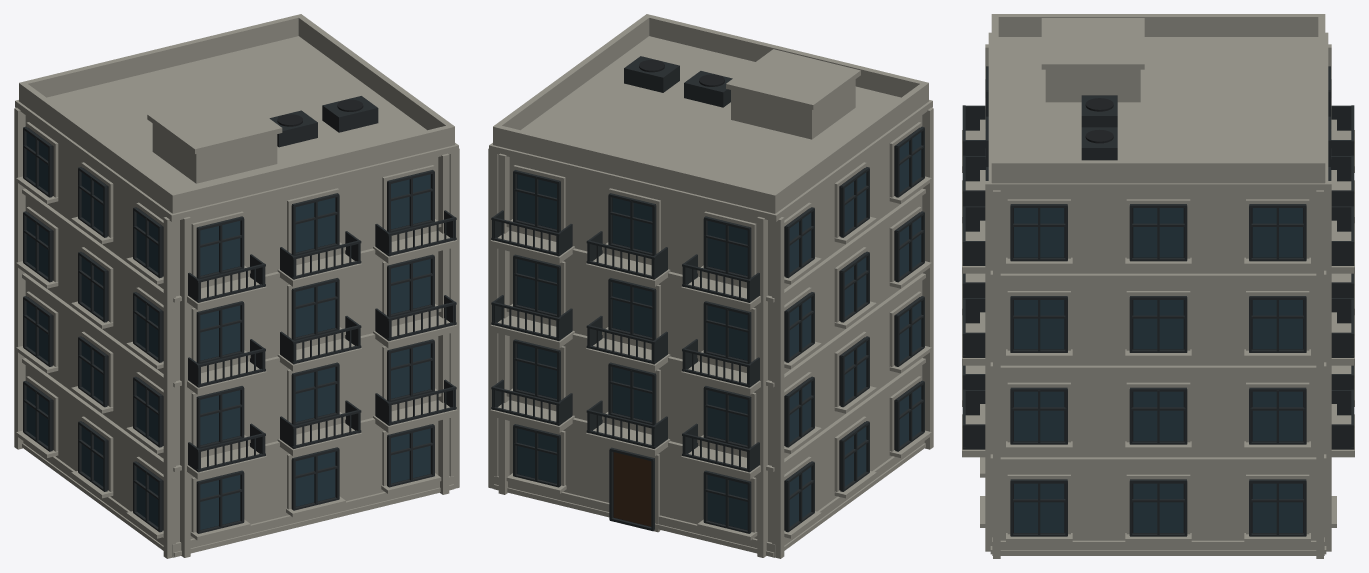
Rendered from SeasideHotel.obj.
3 views of the same model, side by side, from view 1: azimuth 30°, elevation 25°; view 2: azimuth 150°, elevation 25°; view 3: azimuth 270°, elevation 25° (orthographic). The views are drawn at different scales.
Visible parts, largest first — view 1: SeasideHotel; view 2: SeasideHotel; view 3: SeasideHotel.
Part boxes in pixels (box(x1,y1,x2,y2)): SeasideHotel: box(14, 14, 459, 558); SeasideHotel: box(488, 14, 933, 558); SeasideHotel: box(962, 14, 1354, 558).
Bounding box in the file's own units: 11.52 × 14.04 × 12.02.
